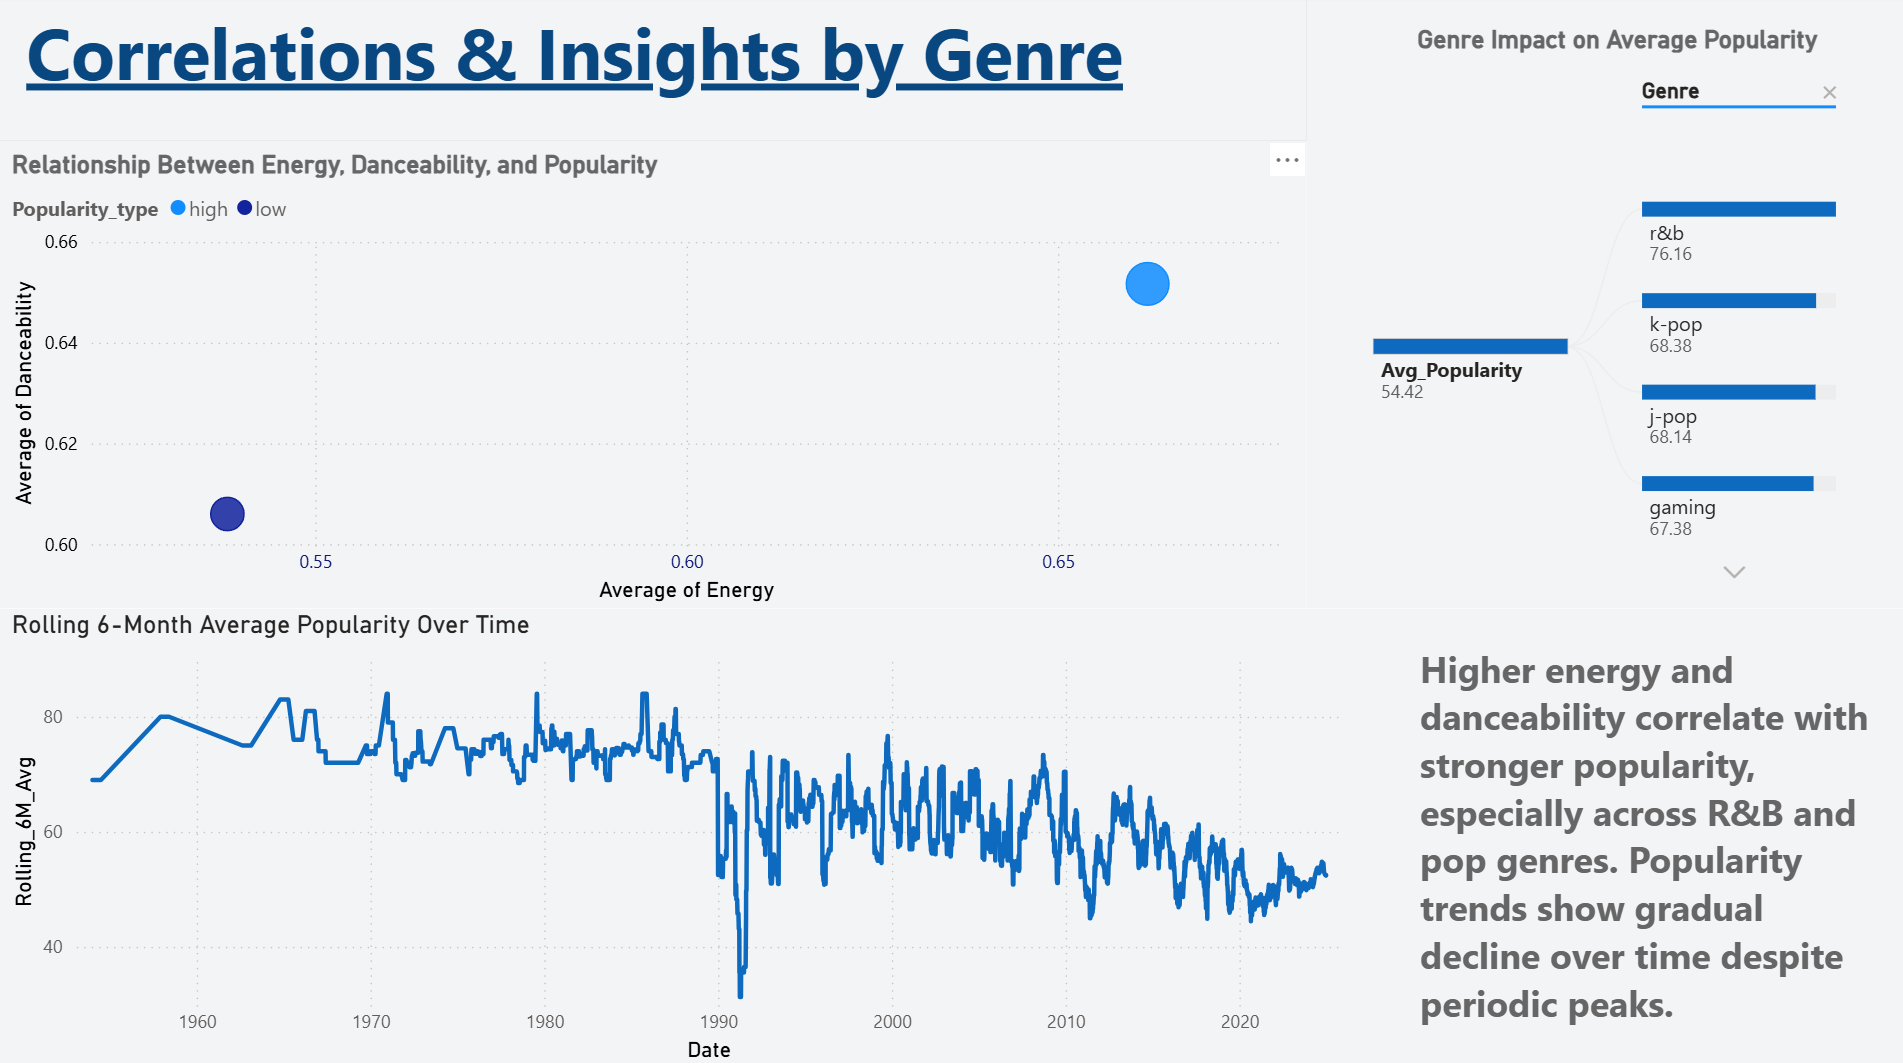

This screenshot's page, from the dashboard's own definition file:
{"tool":"powerbi","page":{"name":"Correlations & Insights","canvas":[1280,720],"ordinal":3},"visuals":[{"type":"scatterChart","title":"Relationship Between Energy, Danceability, and Popularity","fields":{"X":["Avg(Spotify_data.Energy)"],"Y":["Avg(Spotify_data.Danceability)"],"Series":["Spotify_data.Popularity_type"],"Size":["Avg(Spotify_data.Track_popularity)"]},"box":[0,98.9,877.8,313.3],"z":0},{"type":"lineChart","title":"Rolling 6-Month Average Popularity Over Time","fields":{"Category":["Date.Date"],"Y":["_Measures.Rolling_6M_Avg"]},"box":[0,412.4,909.2,307.8],"z":1000},{"type":"decompositionTreeVisual","title":"Genre Impact on Average Popularity","fields":{"Analyze":["_Measures.Avg_Popularity"],"ExplainBy":["Spotify_data.Genre"]},"box":[877.8,0,402.2,412.2],"z":2000},{"type":"textbox","box":[0,0,877.8,98.9],"z":3000},{"type":"textbox","box":[909.2,412.4,371.1,307.8],"z":4000}]}

Visuals, with their boxes in screenshot pixels (x1, y1, x2, y2), scaled from the page's 1280x720 canvas onto the 1903x1063 screenshot:
"Relationship Between Energy, Danceability, and Popularity" scatterChart: [0,146,1305,609]
"Rolling 6-Month Average Popularity Over Time" lineChart: [0,609,1352,1062]
"Genre Impact on Average Popularity" decompositionTreeVisual: [1305,0,1902,609]
textbox: [0,0,1305,146]
textbox: [1352,609,1902,1062]
